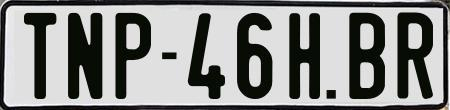4: (187, 13, 230, 103)
6: (236, 10, 273, 99)
B: (348, 11, 387, 103)
H: (288, 12, 320, 99)
N: (65, 11, 105, 99)
P: (115, 11, 154, 101)
R: (394, 9, 432, 96)
T: (24, 11, 57, 102)
